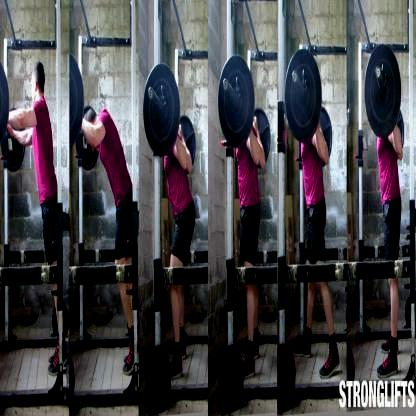Barbell: (291, 67, 300, 88), (147, 85, 156, 105), (375, 64, 384, 83), (222, 77, 230, 96)
